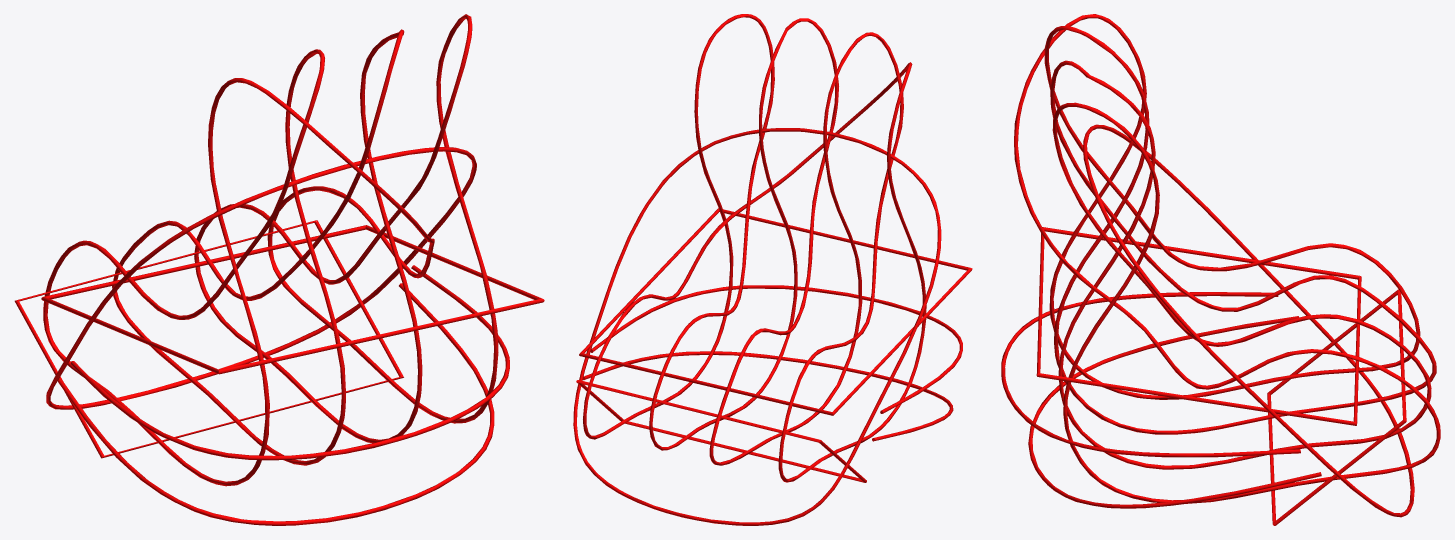
File: fetuchair-red.glb
3 renders of one model, left to right at view 1: azimuth 30°, elevation 25°; view 2: azimuth 150°, elevation 25°; view 3: azimuth 270°, elevation 25°, orthographic. The views are drawn at different scales.
Visible parts, largest first — view 1: fetuchair-red; view 2: fetuchair-red; view 3: fetuchair-red.
Boxes of the visible parts, left/top/right/bottom form: fetuchair-red: left=14, top=14, right=544, bottom=525; fetuchair-red: left=573, top=14, right=972, bottom=525; fetuchair-red: left=1001, top=14, right=1440, bottom=525.
Bounding box in the file's own units: 0.9358 × 1.17 × 1.06.
